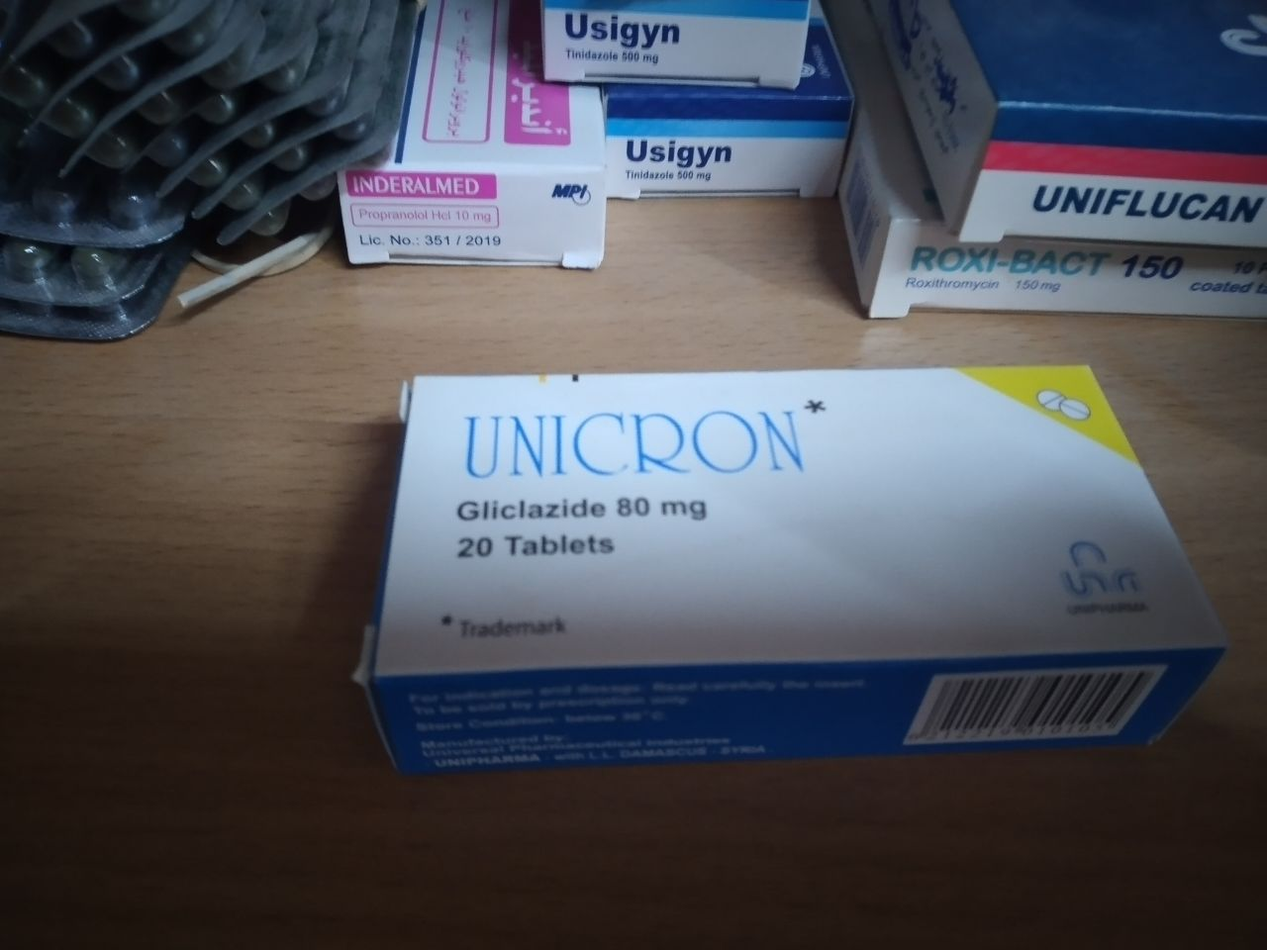Medicine: (351, 336, 1237, 762), (866, 0, 1265, 257), (339, 0, 616, 287), (861, 235, 1267, 334), (586, 89, 851, 210), (547, 0, 831, 101)
